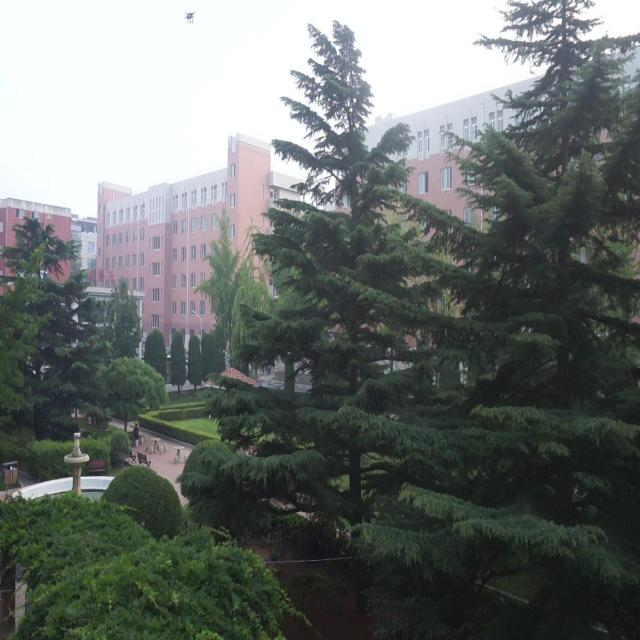drone: (183, 8, 199, 24)
